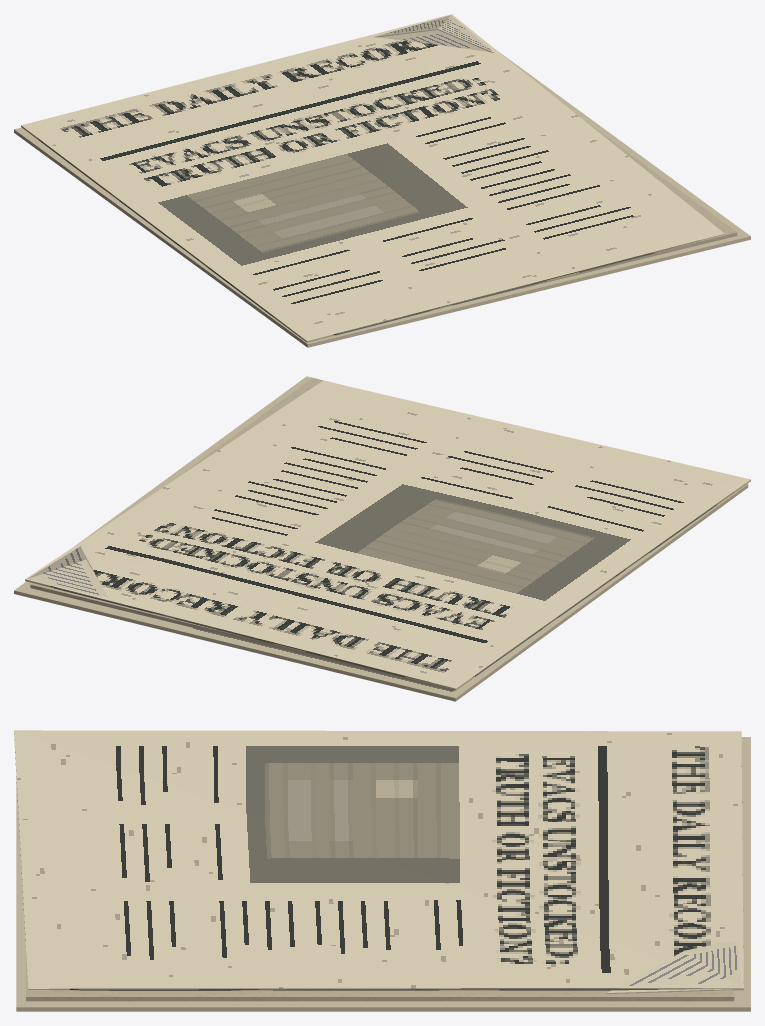
The model's file is months_old_newspaper.glb.
3 renders of one model, top to bottom at view 1: azimuth 30°, elevation 25°; view 2: azimuth 150°, elevation 25°; view 3: azimuth 270°, elevation 25°, orthographic. The views are drawn at different scales.
Parts seen in each view (by area): view 1: block_front page, block_lower fold, block_creased top corner, block_interior edges; view 2: block_front page, block_lower fold, block_interior edges, block_creased top corner; view 3: block_front page, block_lower fold, block_interior edges, block_creased top corner.
Part boxes in pixels (box(x1,y1,x2,y2)): block_front page: box(21, 14, 724, 342); block_lower fold: box(14, 50, 750, 347); block_creased top corner: box(374, 15, 493, 52); block_interior edges: box(468, 120, 737, 301); block_front page: box(25, 380, 750, 690); block_lower fold: box(14, 376, 748, 701); block_interior edges: box(30, 378, 454, 691); block_creased top corner: box(27, 546, 108, 597); block_front page: box(14, 730, 743, 990); block_lower fold: box(16, 737, 750, 1011); block_interior edges: box(26, 952, 734, 1001); block_creased top corner: box(606, 940, 743, 994).
Size of the model in its own units: 0.271 by 0.0152 by 0.311.
1 material, 1 textured.
